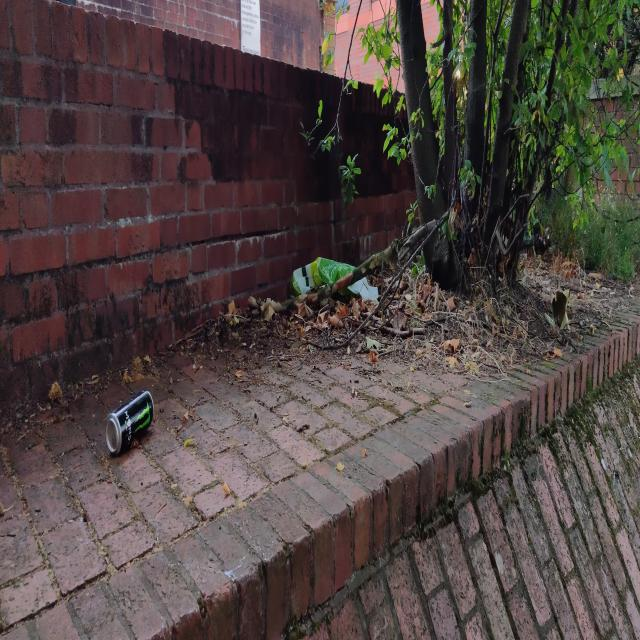litter: (290, 237, 393, 335), (100, 357, 169, 482)
